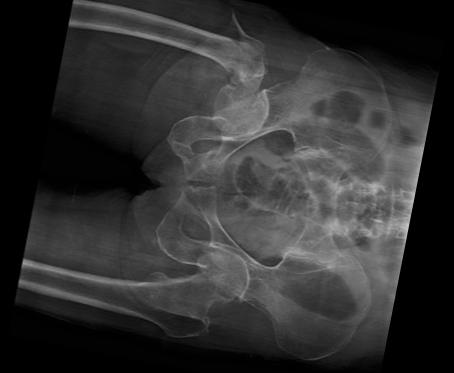fractured: (221, 4, 245, 75)
